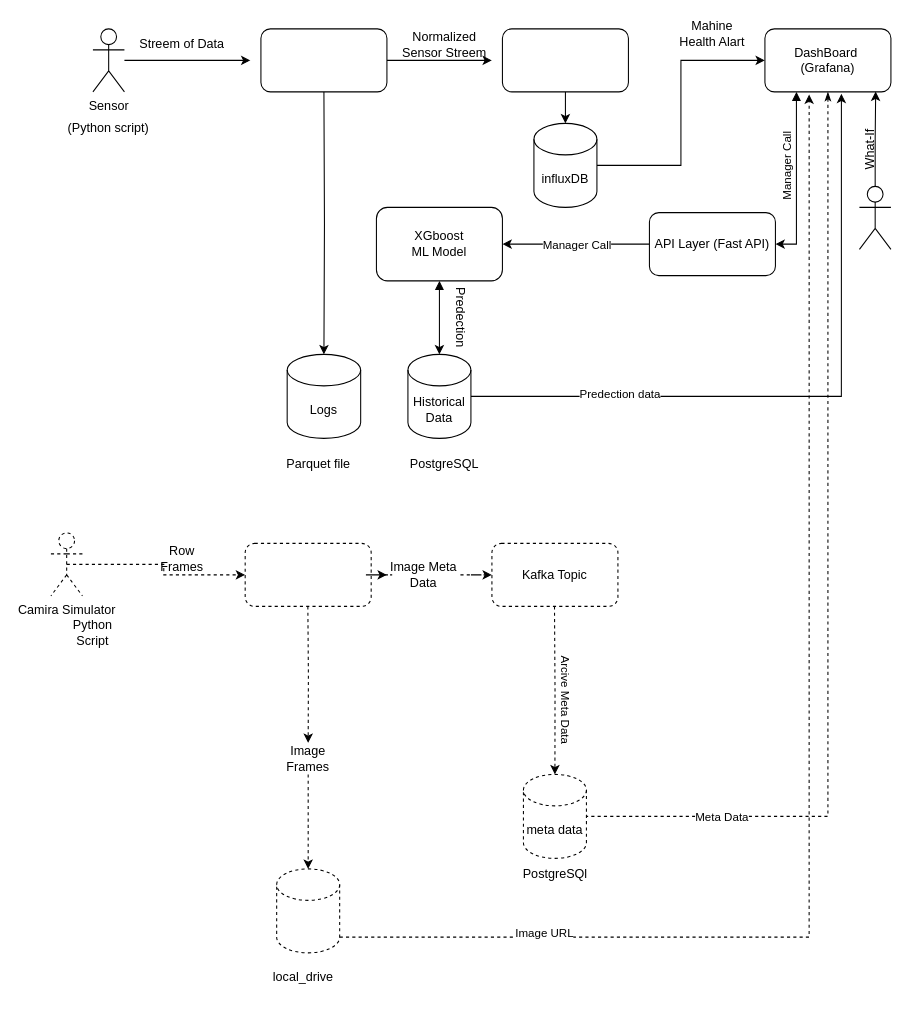
Image size: 918x1010. Some labels were removed from this diagram. Each missing label, with the box of its shape:
Images: (276, 868, 340, 953)
Kafka: (260, 28, 387, 92)
LSTM: (501, 28, 628, 92)
Manager: (858, 185, 891, 249)
Vision Process (YOLOv8): (244, 542, 371, 606)
